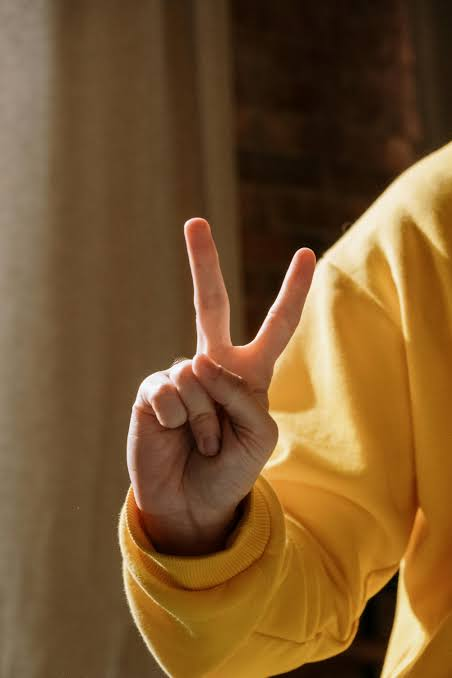peace_sign: (120, 202, 329, 518)
